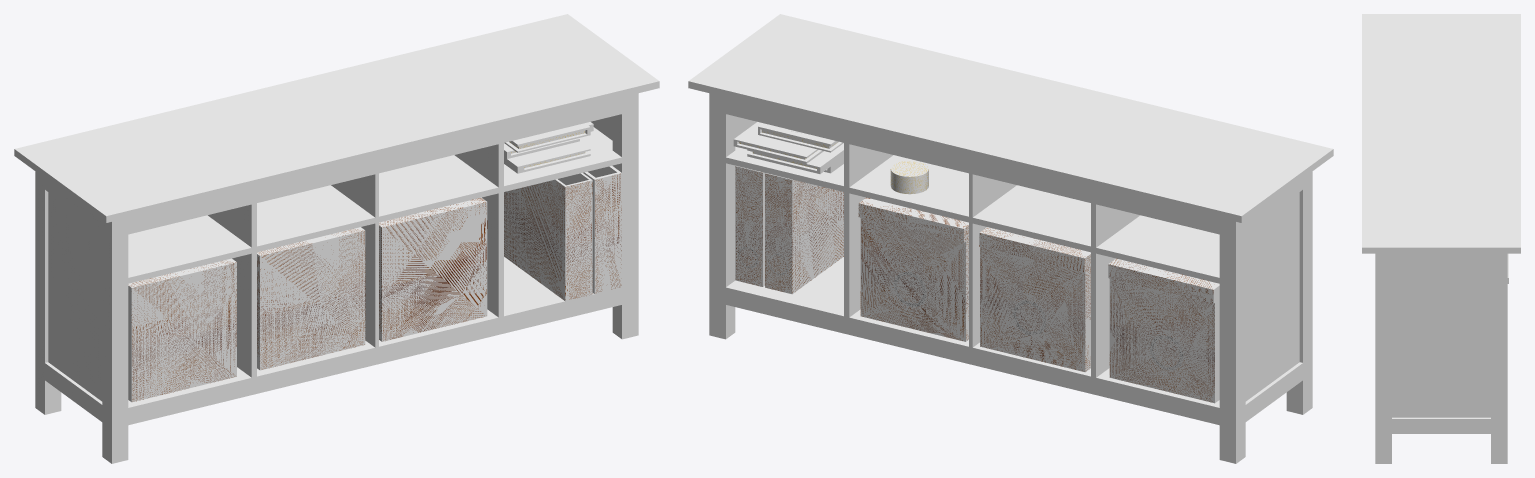
3 renders of one model, left to right at view 1: azimuth 30°, elevation 25°; view 2: azimuth 150°, elevation 25°; view 3: azimuth 270°, elevation 25°, orthographic. The views are drawn at different scales.
Parts seen in each view (by area): view 1: mesh1_mesh1-geometry; view 2: mesh1_mesh1-geometry; view 3: mesh1_mesh1-geometry.
Boxes of the visible parts, x1,y1,x2,y2 form: mesh1_mesh1-geometry: (14,14,659,463); mesh1_mesh1-geometry: (688,14,1333,463); mesh1_mesh1-geometry: (1362,14,1520,463).
Size of the model in its own units: 0.8842 by 0.3918 by 0.2542.
